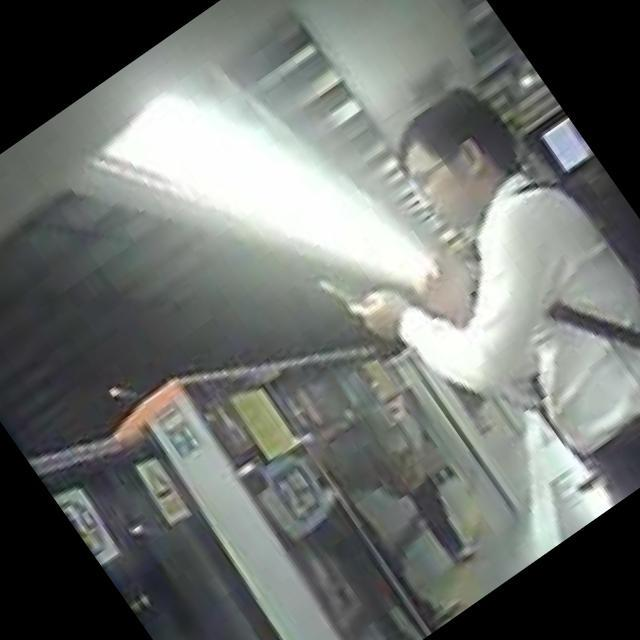person: (261, 46, 640, 571)
